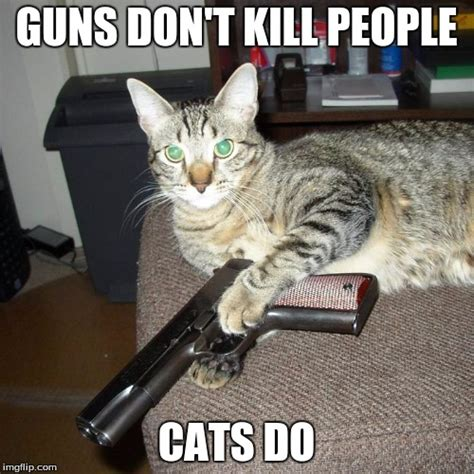gun: (76, 258, 381, 449)
